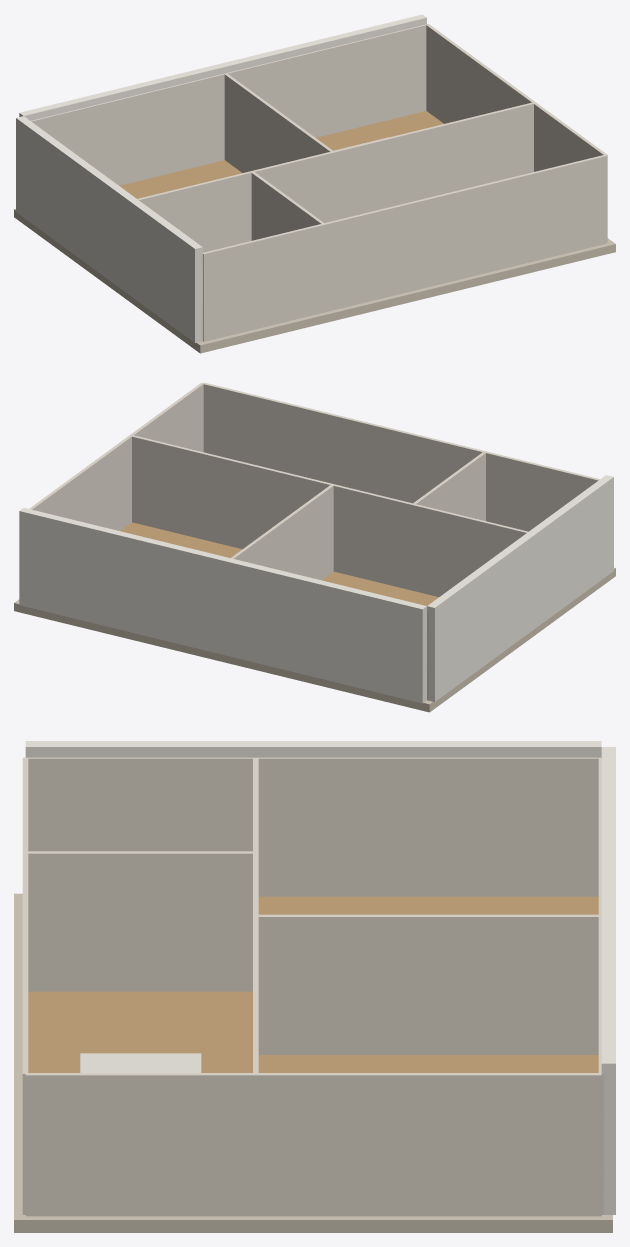
File: garden-1.glb
The picture shows the model from 3 angles, top to bottom: view 1: azimuth 30°, elevation 25°; view 2: azimuth 150°, elevation 25°; view 3: azimuth 270°, elevation 25°; orthographic projection. The views are drawn at different scales.
Visible parts, largest first — view 1: level-lower, slab, floor-bed2, floor-multi; view 2: level-lower, slab, floor-bed2, floor-multi; view 3: level-lower, floor-bed3, slab, floor-multi, floor-bed2.
Part boxes in pixels (left/top/right/bottom): level-lower: left=16, top=14, right=607, bottom=342; slab: left=14, top=208, right=615, bottom=353; floor-bed2: left=316, top=111, right=443, bottom=150; floor-multi: left=119, top=160, right=242, bottom=198; level-lower: left=19, top=382, right=613, bottom=703; slab: left=14, top=567, right=615, bottom=712; floor-bed2: left=120, top=522, right=241, bottom=557; floor-multi: left=322, top=571, right=438, bottom=605; level-lower: left=22, top=741, right=615, bottom=1216; floor-bed3: left=28, top=991, right=252, bottom=1072; slab: left=14, top=893, right=612, bottom=1232; floor-multi: left=258, top=896, right=598, bottom=914; floor-bed2: left=258, top=1055, right=598, bottom=1072.
Size of the model in its own units: 13.45 by 3.15 by 10.45.
